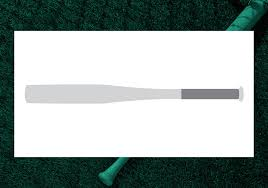baseball bat: (24, 83, 245, 103)
